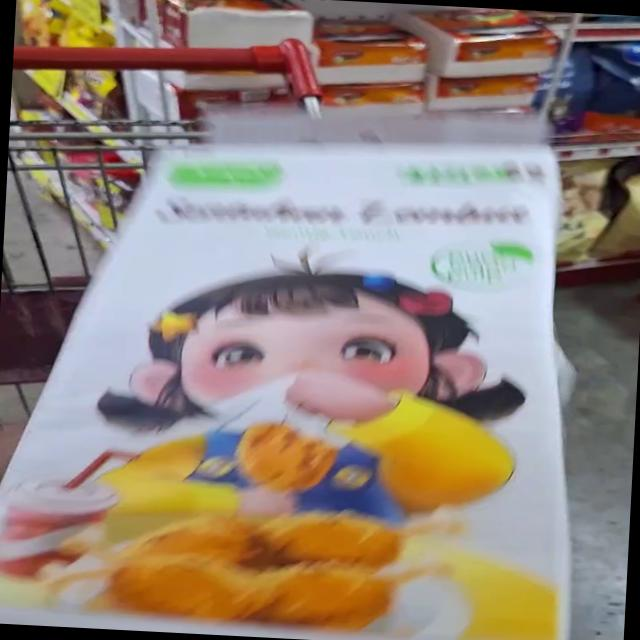Tisu: (0, 327, 628, 640), (82, 122, 614, 380)
